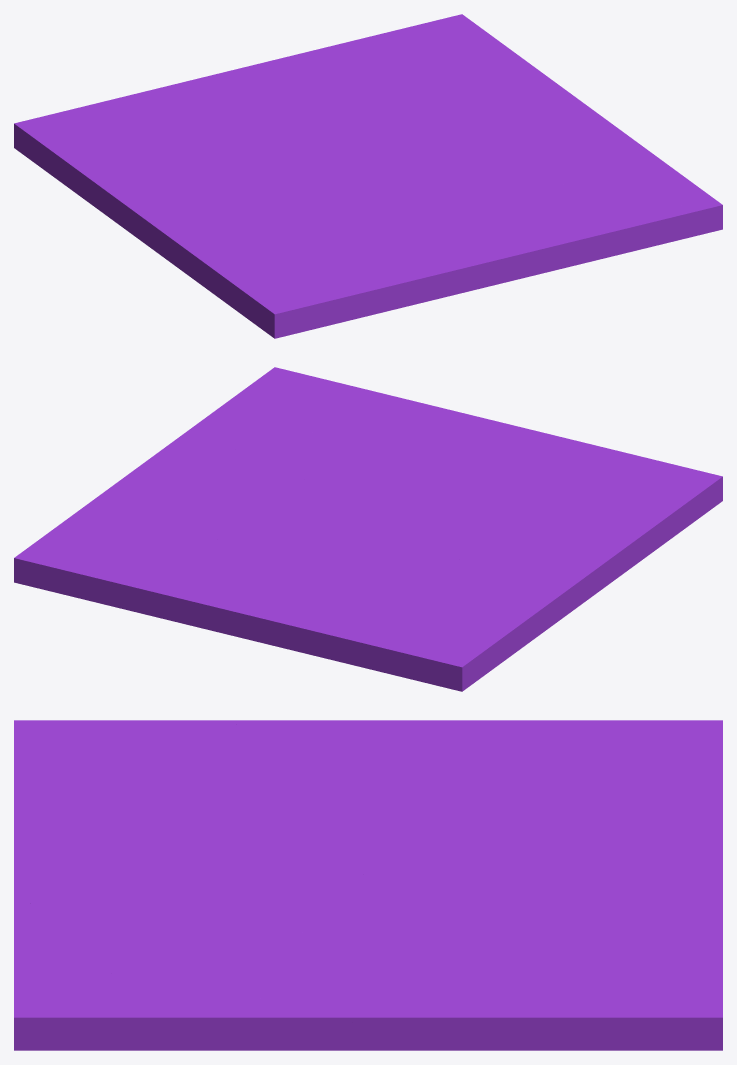
Rendered from Window_175_chunks.fbx.
3 views of the same model, one above another, from view 1: azimuth 30°, elevation 25°; view 2: azimuth 150°, elevation 25°; view 3: azimuth 270°, elevation 25° (orthographic). The views are drawn at different scales.
Visible parts, largest first — view 1: Window_175_1, Window_175_33, Window_175_6, Window_175_7, Window_175_31, Window_175_5, Window_175_16, Window_175_29, Window_175_28, Window_175_22, Window_175_19, Window_175_38 (+25 smaller); view 2: Window_175_1, Window_175_16, Window_175_7, Window_175_6, Window_175_33, Window_175_5, Window_175_22, Window_175_19, Window_175_28, Window_175_12, Window_175_15, Window_175_29 (+26 smaller); view 3: Window_175_1, Window_175_5, Window_175_16, Window_175_6, Window_175_33, Window_175_22, Window_175_19, Window_175_7, Window_175_29, Window_175_28, Window_175_15, Window_175_14 (+26 smaller).
Part boxes in pixels (box(x1,y1,x2,y2)): Window_175_1: box(54, 75, 316, 164); Window_175_33: box(493, 177, 704, 270); Window_175_6: box(328, 163, 505, 228); Window_175_7: box(14, 114, 196, 194); Window_175_31: box(302, 263, 485, 331); Window_175_5: box(561, 142, 722, 243); Window_175_16: box(326, 14, 510, 76); Window_175_29: box(342, 228, 540, 287); Window_175_28: box(240, 244, 367, 338); Window_175_22: box(438, 112, 636, 163); Window_175_19: box(431, 59, 588, 108); Window_175_38: box(211, 236, 324, 317); Window_175_1: box(261, 549, 435, 667); Window_175_16: box(14, 522, 178, 615); Window_175_7: box(415, 585, 526, 691); Window_175_6: box(322, 461, 497, 520); Window_175_33: box(292, 371, 444, 456); Window_175_5: box(189, 367, 306, 450); Window_175_22: box(148, 430, 331, 500); Window_175_19: box(87, 465, 214, 537); Window_175_28: box(545, 468, 722, 521); Window_175_12: box(191, 559, 329, 641); Window_175_15: box(150, 540, 266, 625); Window_175_29: box(456, 411, 570, 487); Window_175_1: box(459, 746, 722, 860); Window_175_5: box(14, 959, 295, 1050); Window_175_16: box(569, 927, 722, 1050); Window_175_6: box(154, 828, 375, 929); Window_175_33: box(14, 896, 231, 1005); Window_175_22: box(247, 904, 383, 1050); Window_175_19: box(375, 946, 576, 1038); Window_175_7: box(487, 720, 722, 790); Window_175_29: box(14, 801, 182, 896); Window_175_28: box(14, 720, 164, 801); Window_175_15: box(537, 885, 722, 928); Window_175_14: box(397, 859, 557, 929).
Size of the model in its own units: 1165 by 60.81 by 1174.
